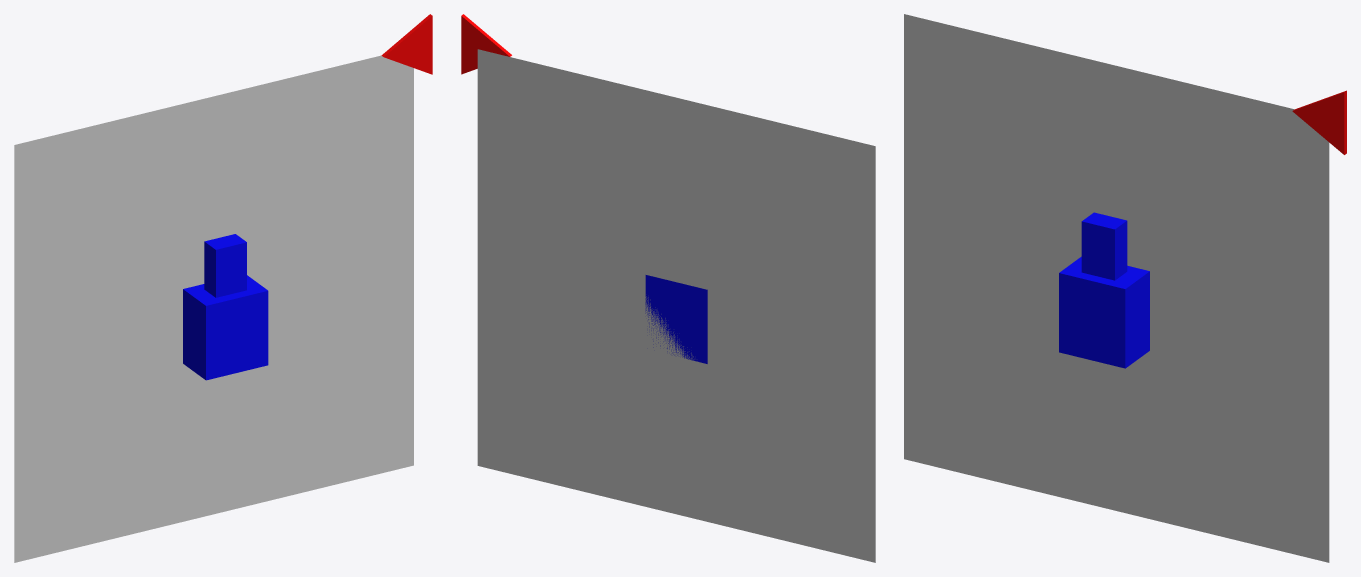
Rendered from tankFence5.obj.
The picture shows the model from 3 angles, left to right: view 1: azimuth 30°, elevation 25°; view 2: azimuth 150°, elevation 25°; view 3: azimuth 330°, elevation 25°; orthographic projection. The views are drawn at different scales.
Parts seen in each view (by area): view 1: Plane, Player, Enemy; view 2: Plane, Player, Enemy; view 3: Plane, Player, Enemy.
Boxes of the visible parts, box(x1,y1,x2,y2) form: Plane: box(14, 55, 413, 562); Player: box(183, 234, 268, 380); Enemy: box(381, 14, 432, 74); Plane: box(477, 49, 875, 562); Player: box(645, 275, 707, 363); Enemy: box(461, 14, 511, 74); Plane: box(904, 14, 1329, 562); Player: box(1059, 212, 1149, 368); Enemy: box(1292, 90, 1346, 154).
Size of the model in its own units: 20.82 by 21.41 by 2.
